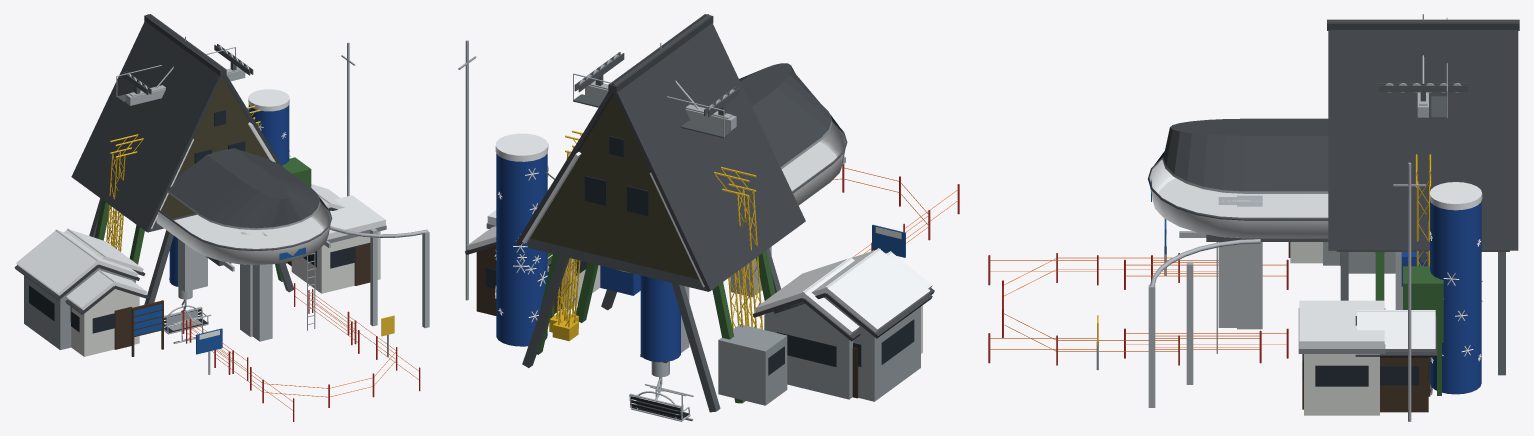
The model's file is lifts.glb.
3 views of the same model, side by side, from view 1: azimuth 30°, elevation 25°; view 2: azimuth 150°, elevation 25°; view 3: azimuth 270°, elevation 25° (orthographic). The views are drawn at different scales.
Parts seen in each view (by area): view 1: st_top_mesh, hood_qd_top, qd_bottom_frame, hood_qd_bottom, qd_top_frame, st_bottom_mesh, tb_bottom_mesh, tb_top_mesh, qd_tower_mesh, tb_tower_mesh, qd_chair_mesh, st_chair_mesh; view 2: st_top_mesh, tb_bottom_mesh, qd_top_frame, hood_qd_top, tb_top_mesh, hood_qd_bottom, qd_bottom_frame, qd_tower_mesh, st_bottom_mesh, tb_tower_mesh, qd_chair_mesh, st_tower_mesh; view 3: st_top_mesh, qd_bottom_frame, hood_qd_top, tb_bottom_mesh, hood_qd_bottom, tb_top_mesh, st_bottom_mesh, qd_tower_mesh, qd_top_frame, tb_tower_mesh.
Part boxes in pixels (left/top/right/bottom): st_top_mesh: left=71, top=14, right=356, bottom=374; hood_qd_top: left=168, top=148, right=319, bottom=341; qd_bottom_frame: left=196, top=42, right=429, bottom=407; hood_qd_bottom: left=156, top=191, right=332, bottom=336; qd_top_frame: left=14, top=229, right=420, bottom=421; st_bottom_mesh: left=65, top=157, right=352, bottom=373; tb_bottom_mesh: left=64, top=89, right=359, bottom=380; tb_top_mesh: left=108, top=184, right=344, bottom=356; qd_tower_mesh: left=116, top=36, right=253, bottom=299; tb_tower_mesh: left=106, top=105, right=260, bottom=250; qd_chair_mesh: left=164, top=299, right=211, bottom=343; st_chair_mesh: left=166, top=299, right=205, bottom=330; st_top_mesh: left=515, top=14, right=805, bottom=412; tb_bottom_mesh: left=494, top=133, right=870, bottom=399; qd_top_frame: left=773, top=184, right=959, bottom=401; hood_qd_top: left=681, top=63, right=831, bottom=352; tb_top_mesh: left=465, top=226, right=749, bottom=341; hood_qd_bottom: left=730, top=113, right=847, bottom=297; qd_bottom_frame: left=458, top=40, right=930, bottom=309; qd_tower_mesh: left=573, top=42, right=739, bottom=377; st_bottom_mesh: left=537, top=242, right=934, bottom=403; tb_tower_mesh: left=549, top=130, right=762, bottom=332; qd_chair_mesh: left=629, top=377, right=693, bottom=421; st_tower_mesh: left=586, top=57, right=732, bottom=118; st_top_mesh: left=1151, top=19, right=1519, bottom=375; qd_bottom_frame: left=1002, top=162, right=1425, bottom=421; hood_qd_top: left=1163, top=118, right=1402, bottom=327; tb_bottom_mesh: left=1124, top=182, right=1482, bottom=394; hood_qd_bottom: left=1148, top=151, right=1328, bottom=329; tb_top_mesh: left=1355, top=252, right=1436, bottom=412; st_bottom_mesh: left=1151, top=242, right=1443, bottom=395; qd_tower_mesh: left=1378, top=14, right=1467, bottom=118; qd_top_frame: left=988, top=242, right=1340, bottom=363; tb_tower_mesh: left=1415, top=154, right=1431, bottom=266.
Bounding box in the file's own units: 17.79 × 15.35 × 19.58.
